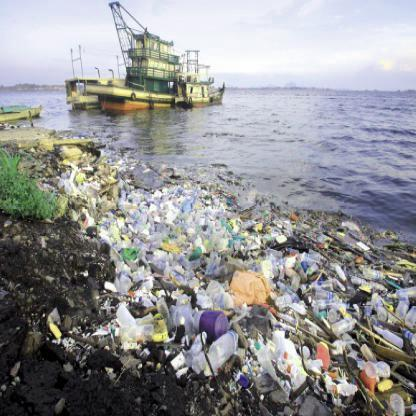Plastic: (254, 343, 290, 394), (208, 331, 238, 371), (196, 308, 227, 336), (393, 290, 413, 318), (336, 317, 355, 337)
